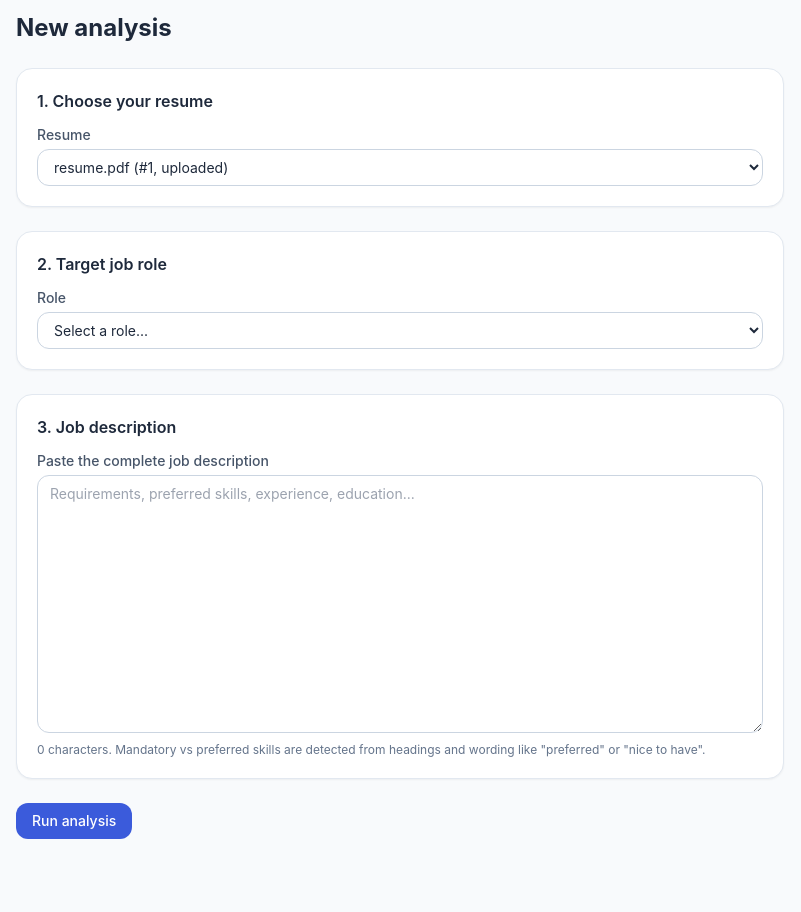
Test: job targeting form › offers the predefined roles and a custom option
Select "Other (enter my own)" in the dropdown labelled "Role" at [400, 330], box [37,312,763,349]
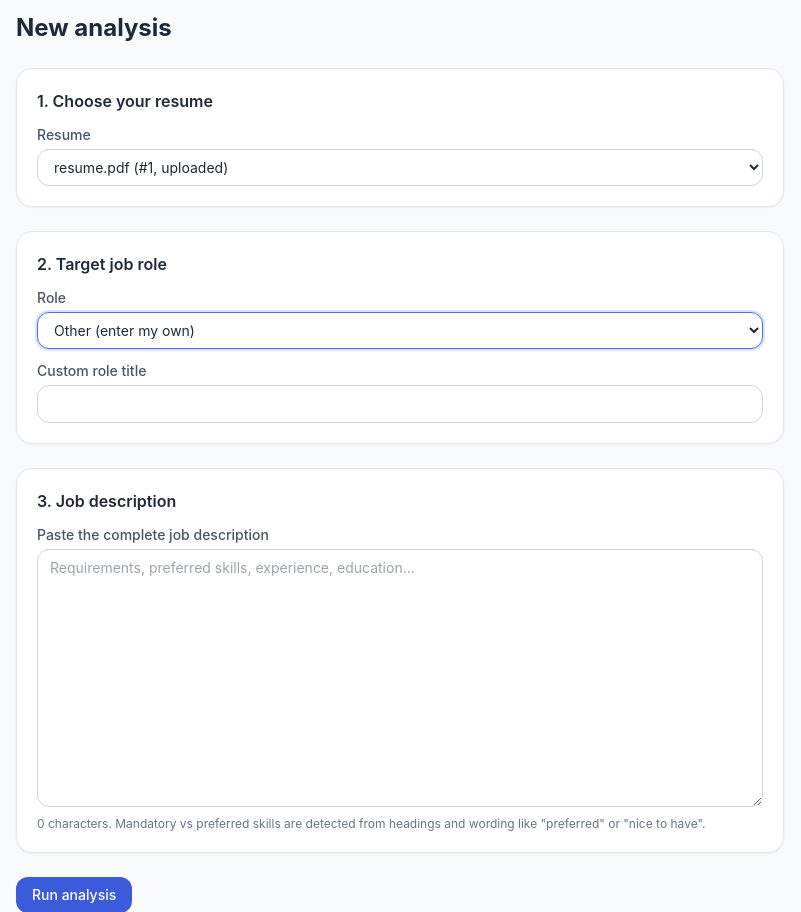
Check: the field labelled "Custom role title" is shown, box [37,385,763,423]
